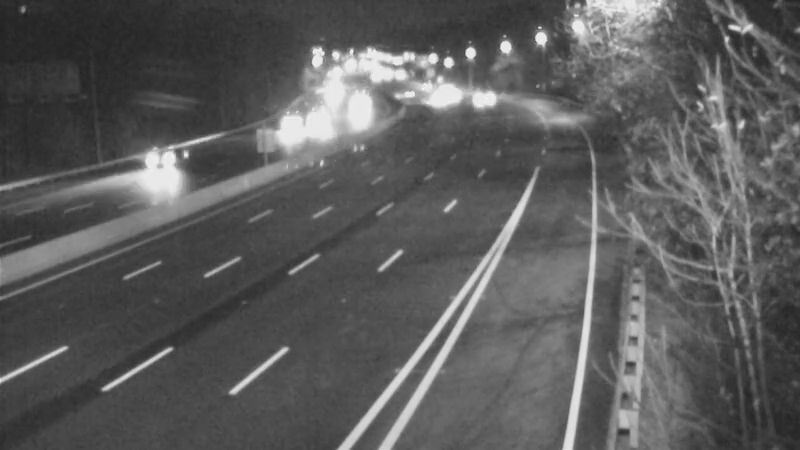vehicle: (117, 119, 197, 199), (377, 65, 427, 115), (412, 78, 462, 128), (464, 69, 514, 119), (251, 104, 301, 154), (293, 97, 343, 147)
